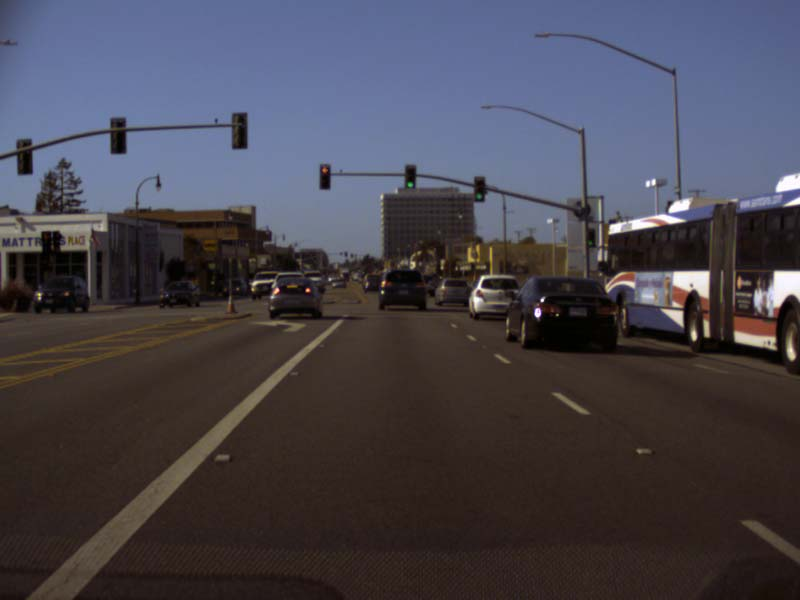Green: (404, 164, 415, 187), (474, 176, 483, 200), (587, 228, 595, 246)
Red: (319, 163, 330, 189)
